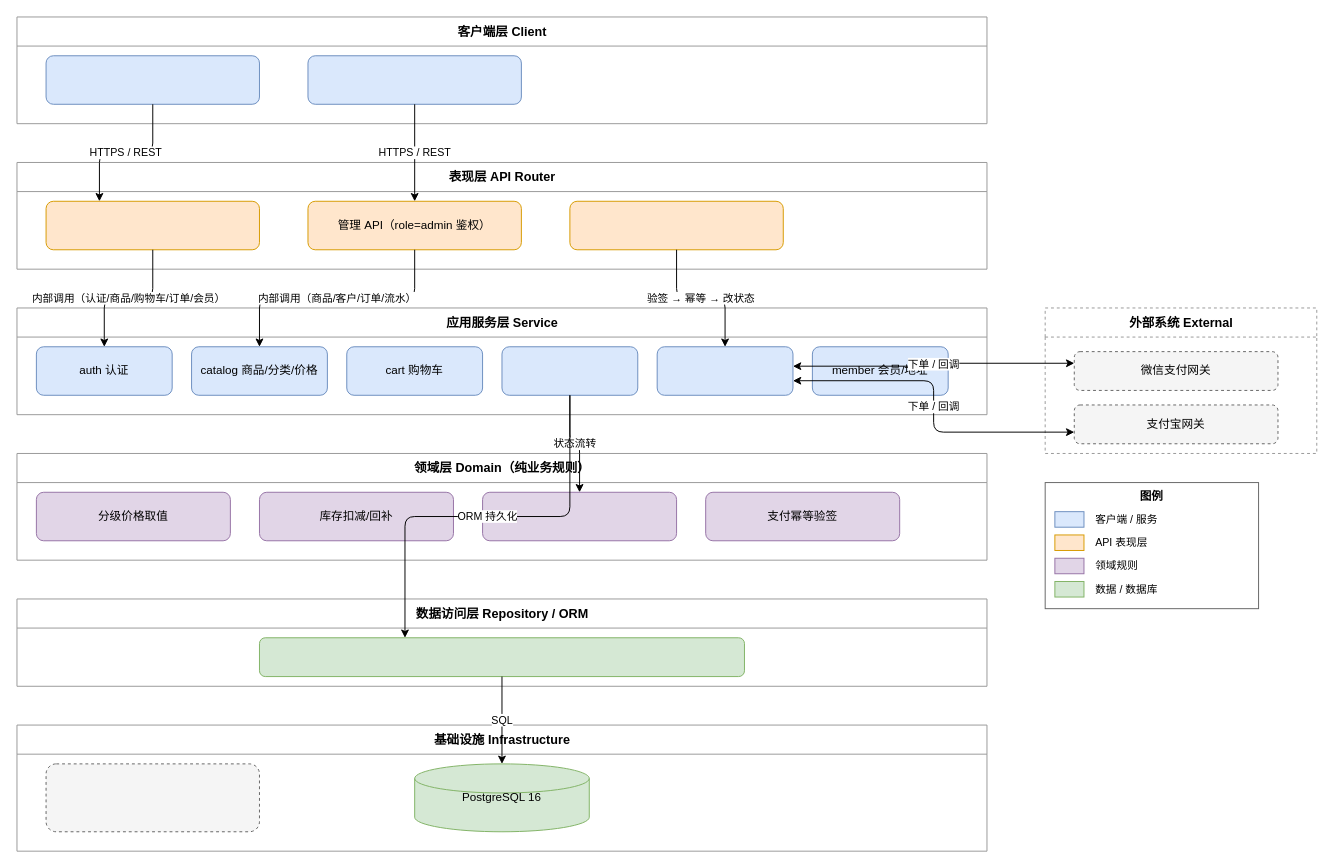
Image size: 1334x868. Some labels were removed from this diagram. The shapes that lost their labels are listed below. From the top down, each one's centre as x and y in pixels, then its label:
the point at 152,79: 前台买家端 shop-web Vue3 + Element Plus + Pinia
the point at 414,79: 后台管理端 admin-web Vue3 + Element Plus
the point at 152,225: 买家 API
the point at 676,225: 支付回调 API（仅验签）
the point at 569,370: order 订单
the point at 724,370: payment 支付
the point at 579,516: 订单状态机
the point at 501,657: SQLAlchemy 2.0 ORM + Alembic 迁移
the point at 152,797: 本地磁盘 / 对象存储（商品图）
